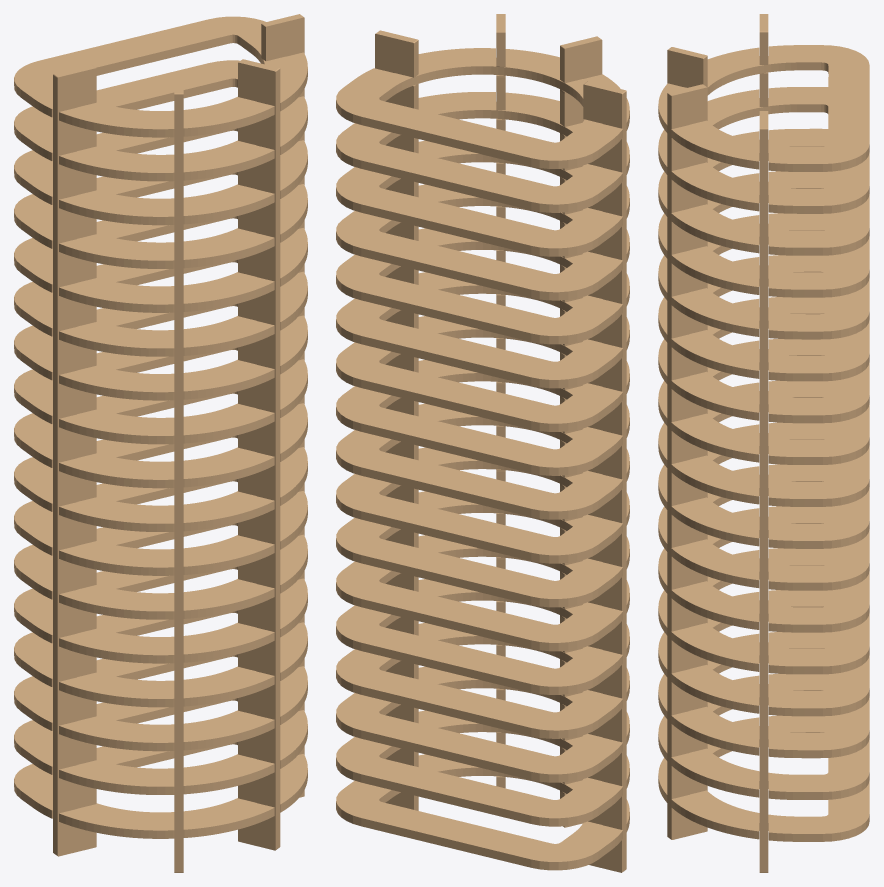
Rendered from samla.glb.
3 views of the same model, side by side, from view 1: azimuth 30°, elevation 25°; view 2: azimuth 150°, elevation 25°; view 3: azimuth 270°, elevation 25° (orthographic). The views are drawn at different scales.
Visible parts, largest first — view 1: slicer-lamellstemning; view 2: slicer-lamellstemning; view 3: slicer-lamellstemning.
Boxes of the visible parts, box(x1,y1,x2,y2) form: slicer-lamellstemning: box(14, 14, 307, 872); slicer-lamellstemning: box(336, 14, 629, 872); slicer-lamellstemning: box(658, 14, 869, 872).
Bounding box in the file's own units: 0.096 × 0.28 × 0.072.
